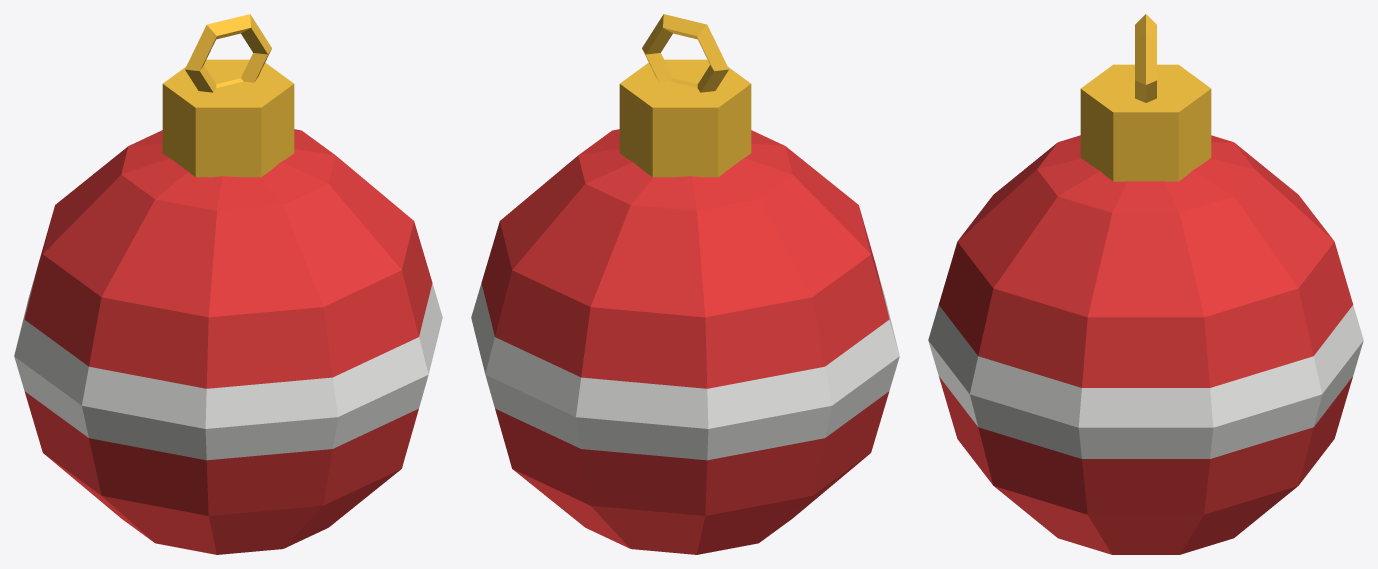
The model's file is RedOrnament.fbx.
3 renders of one model, left to right at view 1: azimuth 30°, elevation 25°; view 2: azimuth 150°, elevation 25°; view 3: azimuth 270°, elevation 25°, orthographic.
Visible parts, largest first — view 1: RedOrnament; view 2: RedOrnament; view 3: RedOrnament.
Part boxes in pixels (x1,y1,x2,y2): RedOrnament: (14,14,442,554); RedOrnament: (471,14,899,554); RedOrnament: (928,14,1363,554).
Size of the model in its own units: 1.9 by 2.6 by 2.
Materials: 1 (1 with a texture image).
